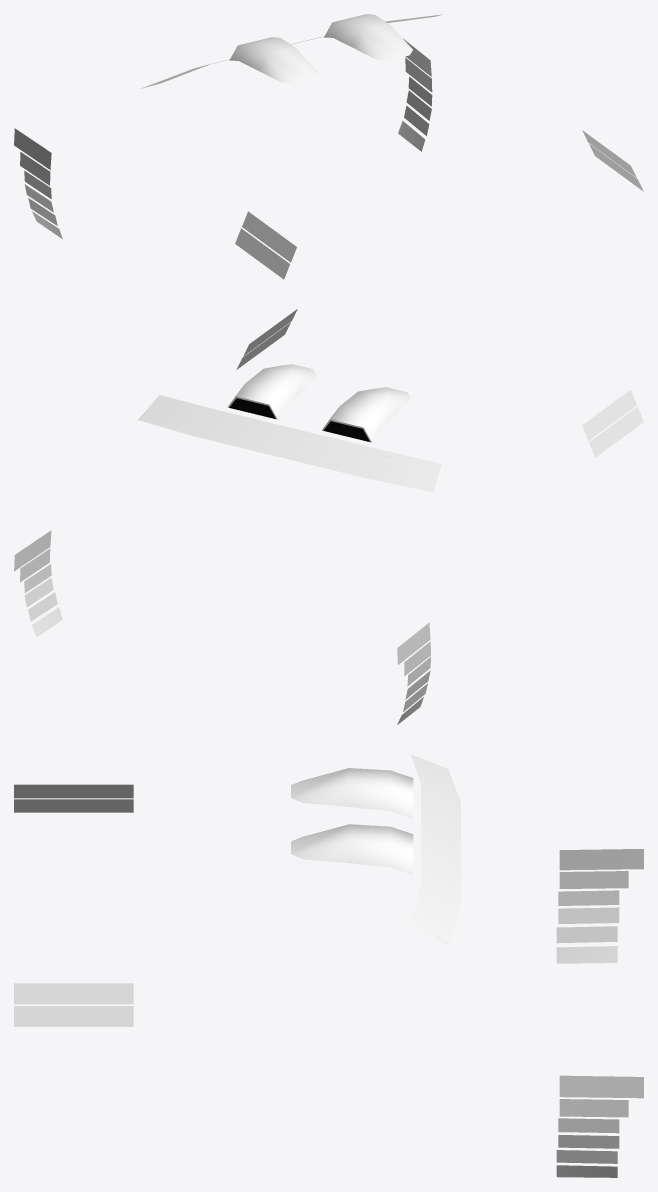
3 renders of one model, top to bottom at view 1: azimuth 30°, elevation 25°; view 2: azimuth 150°, elevation 25°; view 3: azimuth 270°, elevation 25°, orthographic. The views are drawn at different scales.
Visible parts, largest first — view 1: rf_c_f; view 2: rf_c_f; view 3: rf_c_f.
Part boxes in pixels (x1,y1,x2,y2): rf_c_f: [14, 14, 643, 279]; rf_c_f: [14, 309, 643, 724]; rf_c_f: [14, 754, 643, 1177].
Bounding box in the file's own units: 1.9 × 1.03 × 2.21.
3 materials, 2 textured.
